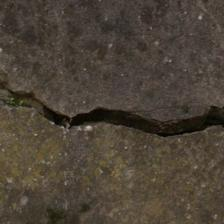Crack: (6, 76, 221, 144)
